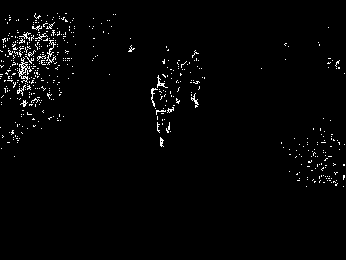person: (150, 72, 175, 148)
